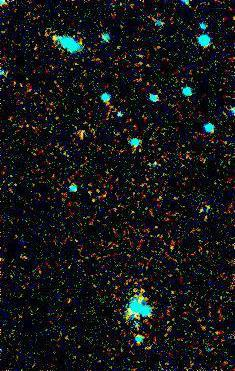star: (40, 22, 70, 52)
